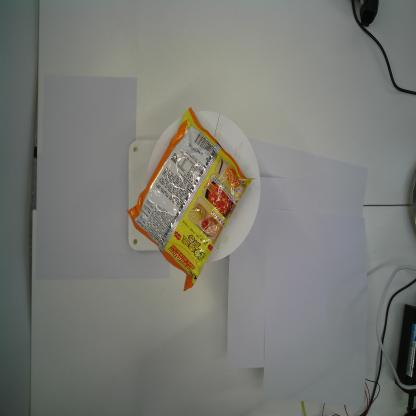Instant Noodles: (128, 108, 255, 291)
